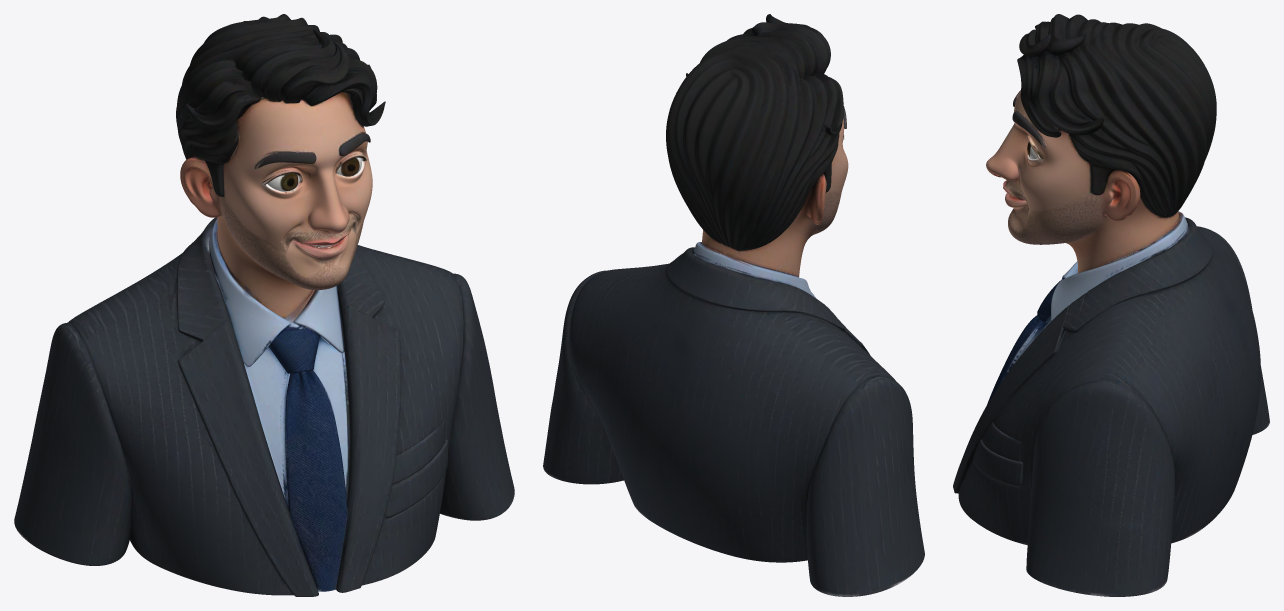
Rendered from head.glb.
3 views of the same model, side by side, from view 1: azimuth 30°, elevation 25°; view 2: azimuth 150°, elevation 25°; view 3: azimuth 270°, elevation 25° (orthographic). The views are drawn at different scales.
Visible parts, largest first — view 1: node_0; view 2: node_0; view 3: node_0.
Part boxes in pixels (left/top/right/bottom): node_0: left=14, top=14, right=514, bottom=596; node_0: left=543, top=14, right=924, bottom=596; node_0: left=953, top=14, right=1269, bottom=596.
Bounding box in the file's own units: 0.7622 × 0.8524 × 0.5201.
Materials: 1 (1 with a texture image).
